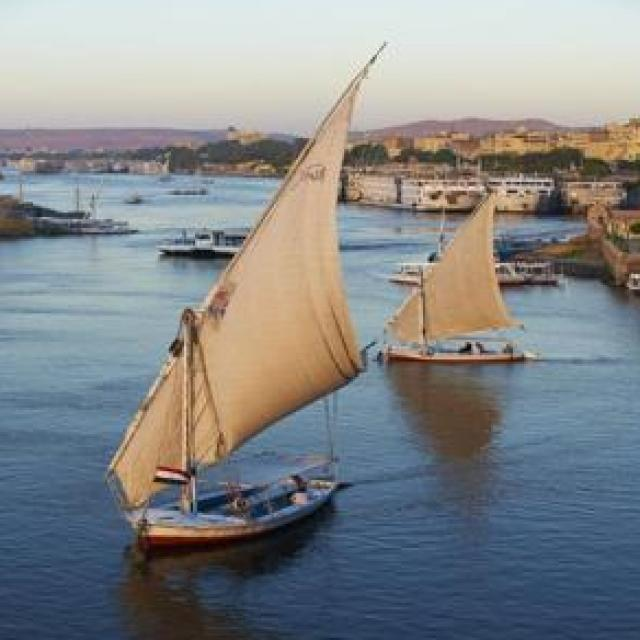houseboat: (150, 216, 249, 256)
sailboat: (95, 41, 372, 541), (376, 178, 539, 364)
